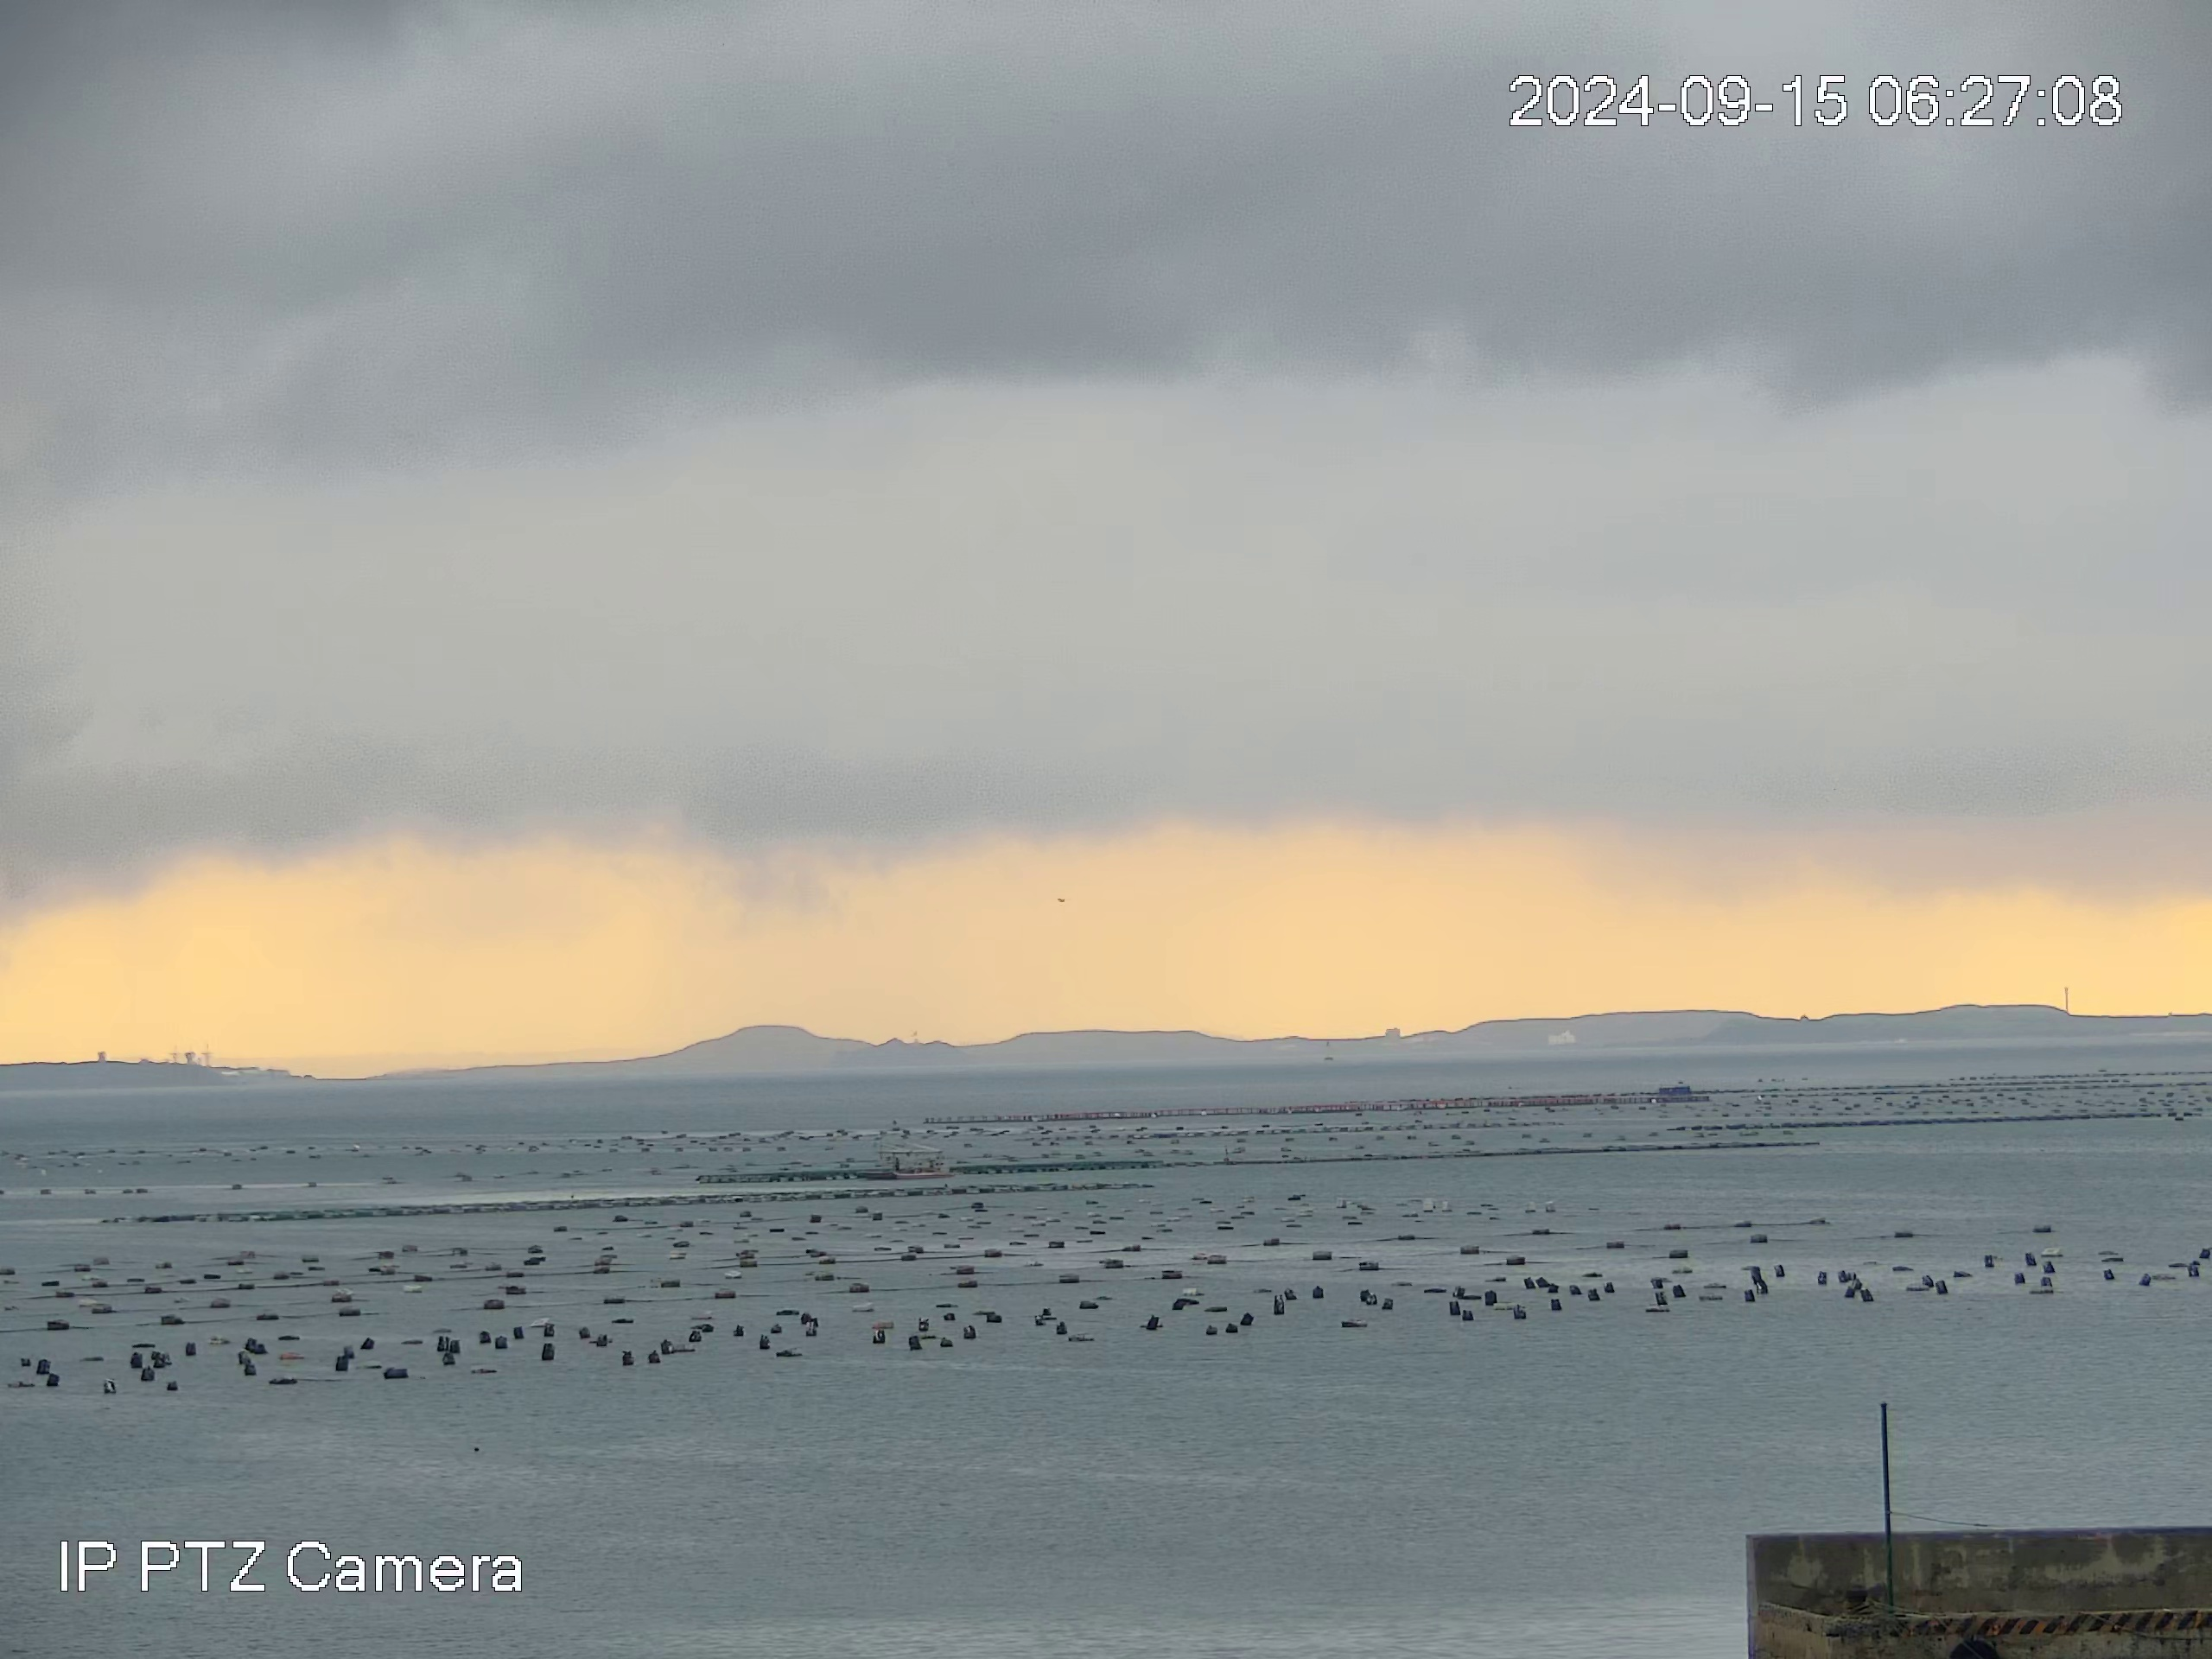boat: (874, 1138, 956, 1180)
